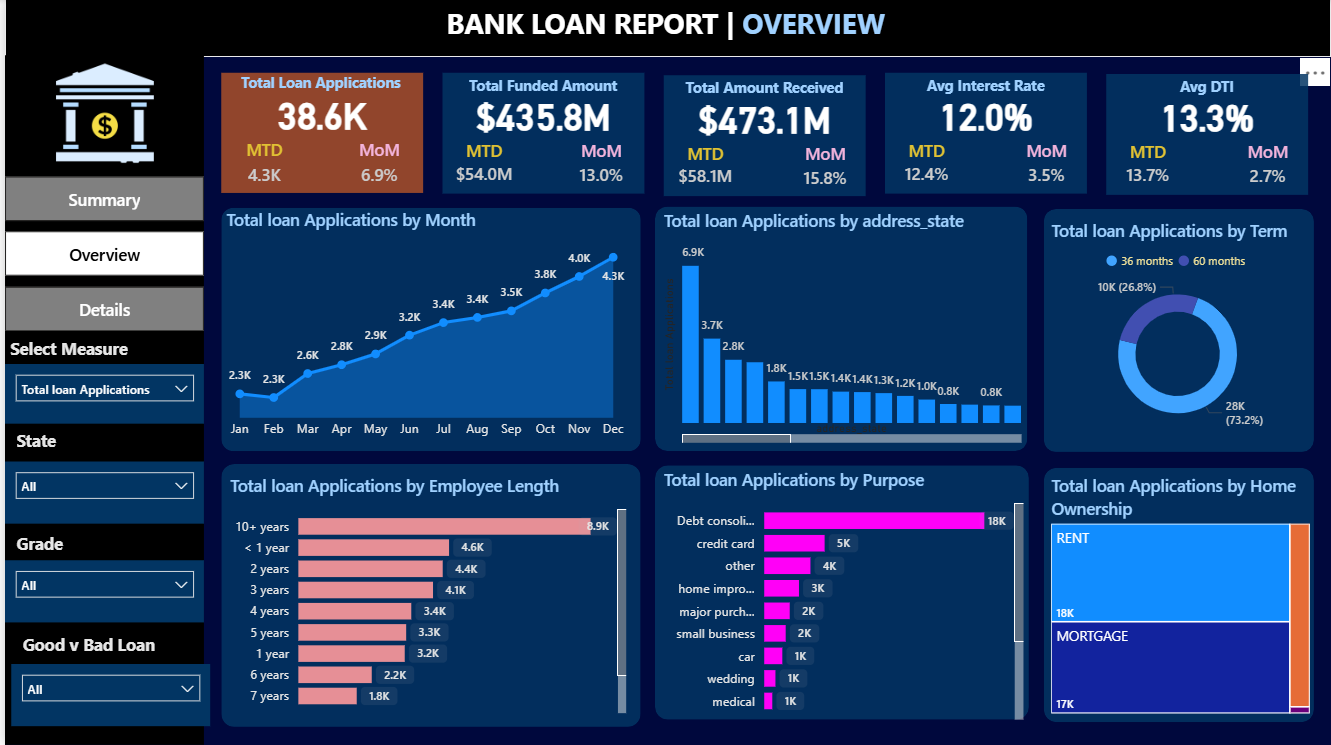

The page's visual inventory and layout, read from the dashboard file:
{"tool":"powerbi","page":{"name":"Overview","canvas":[1280,720],"ordinal":1},"visuals":[{"type":"shape","box":[0,0,1280.3,55],"z":0},{"type":"shape","box":[208.6,70.3,194.9,116.3],"z":0,"group":"g1"},{"type":"shape","box":[422.3,71.3,194.9,116.6],"z":0,"group":"g2"},{"type":"shape","box":[849.7,71.3,194.9,116.6],"z":0,"group":"g4"},{"type":"shape","box":[1063.5,72.7,194.9,116.6],"z":0,"group":"g5"},{"type":"shape","box":[636,74.1,194.9,116.6],"z":0,"group":"g3"},{"type":"card","fields":{"Values":["financial_loan.Total loan Applications"]},"box":[208.6,86.7,194.9,46.5],"z":1000,"group":"g1"},{"type":"card","fields":{"Values":["financial_loan.Total Funded Amount"]},"box":[422.3,87.8,194.9,46.7],"z":1000,"group":"g2"},{"type":"card","fields":{"Values":["financial_loan.Avg Interest Rate"]},"box":[849.7,87.8,194.9,46.7],"z":1000,"group":"g4"},{"type":"card","fields":{"Values":["financial_loan.Avg DTI"]},"box":[1063.5,89.2,194.9,46.7],"z":1000,"group":"g5"},{"type":"card","fields":{"Values":["financial_loan.Total Amount Received"]},"box":[636,90.6,194.9,46.7],"z":1000,"group":"g3"},{"type":"shape","box":[208.6,201.7,405,235],"z":1000},{"type":"shape","box":[0,54.9,192,665.5],"z":2000},{"type":"textbox","box":[220,65.9,170.2,38.3],"z":2000,"group":"g1"},{"type":"textbox","box":[434.6,68.6,170.2,38.4],"z":2000,"group":"g2"},{"type":"textbox","box":[862,68.6,170.2,38.4],"z":2000,"group":"g4"},{"type":"textbox","box":[1075.8,70,170.2,38.4],"z":2000,"group":"g5"},{"type":"textbox","box":[648.3,71.4,170.2,38.4],"z":2000,"group":"g3"},{"type":"textbox","box":[421.3,0,450.1,50.8],"z":3000},{"type":"card","title":"MTD","fields":{"Values":["financial_loan.MTD loan Applications"]},"box":[220.9,133.3,59,53.4],"z":3000,"group":"g1"},{"type":"card","title":"MTD","fields":{"Values":["financial_loan.MTD funded Amount"]},"box":[425.1,135.4,75.5,49.4],"z":3000,"group":"g2"},{"type":"card","title":"MTD","fields":{"Values":["financial_loan.MTD Avg Int Rate"]},"box":[852.5,135.4,75.5,49.4],"z":3000,"group":"g4"},{"type":"card","title":"MTD","fields":{"Values":["financial_loan.MTD Avg DTI"]},"box":[1066.3,136.8,75.5,49.4],"z":3000,"group":"g5"},{"type":"card","title":"MTD","fields":{"Values":["financial_loan.MTD Total Amount Received"]},"box":[638.8,138.2,75.5,49.4],"z":3000,"group":"g3"},{"type":"group","id":"g1","title":"Group 1","box":[208.6,65.9,194.9,120.8],"z":4000},{"type":"card","title":"MoM","fields":{"Values":["financial_loan.MOM Loan Application"]},"box":[332.1,133.3,59,53.4],"z":4000,"group":"g1"},{"type":"card","title":"MoM","fields":{"Values":["financial_loan.MOM Total Funded Amount"]},"box":[545.8,135.4,60.4,52.1],"z":4000,"group":"g2"},{"type":"card","title":"MoM","fields":{"Values":["financial_loan.MOM Avg int rate"]},"box":[973.5,135.4,63.1,52.1],"z":4000,"group":"g4"},{"type":"card","title":"MoM","fields":{"Values":["financial_loan.MOM Avg DTI"]},"box":[1187.3,136.8,63.1,52.1],"z":4000,"group":"g5"},{"type":"card","title":"MoM","fields":{"Values":["financial_loan.MOM Total Amout Received"]},"box":[759.8,138.2,63.1,52.1],"z":4000,"group":"g3"},{"type":"group","id":"g2","title":"Group 1","box":[422.3,68.6,194.9,119.4],"z":5000},{"type":"group","id":"g3","title":"Group 1","box":[636,71.4,194.9,119.4],"z":6000},{"type":"group","id":"g4","title":"Group 1","box":[849.7,68.6,194.9,119.4],"z":7000},{"type":"group","id":"g5","title":"Group 1","box":[1063.5,70,194.9,119.4],"z":8000},{"type":"actionButton","box":[0,0,100,40],"z":9000},{"type":"group","id":"g6","title":"Group 2","box":[5.5,606.5,192.1,96.1],"z":10000},{"type":"group","id":"g7","title":"Group 3","box":[0,509.1,192.1,93.3],"z":11000},{"type":"group","id":"g8","title":"Group 4","box":[0,410.3,192.1,96.1],"z":12000},{"type":"shape","box":[1003.1,203.1,260.7,234.6],"z":13000},{"type":"areaChart","fields":{"Y2":["financial_loan.Total loan Applications"],"Category":["Date Table.Month"]},"box":[208.6,201.7,396.6,231.9],"z":14000},{"type":"slicer","fields":{"Values":["Select Measure.Select Measure"]},"box":[0,352.7,192.1,57.6],"z":14000,"group":"g9"},{"type":"group","id":"g9","title":"Group 5","box":[0,321.1,192.1,89.2],"z":15000},{"type":"shape","box":[627.1,200.3,359.5,236],"z":16000},{"type":"donutChart","fields":{"Y":["financial_loan.Total loan Applications"],"Category":["financial_loan.term"]},"box":[1004.5,212.7,253.9,211.3],"z":17000},{"type":"shape","box":[208.6,448.7,404.8,253.9],"z":18000},{"type":"barChart","fields":{"Y":["financial_loan.Total loan Applications"],"Category":["financial_loan.emp_length"]},"box":[212.7,458.3,392.5,236],"z":19000},{"type":"shape","box":[627.1,450.1,360.9,245.6],"z":20000},{"type":"barChart","fields":{"Y":["financial_loan.Total loan Applications"],"Category":["financial_loan.purpose"]},"box":[631.2,452.8,356.8,248.4],"z":21000},{"type":"slicer","fields":{"Values":["financial_loan.address_state"]},"box":[0,446,192.1,60.4],"z":22000,"group":"g8"},{"type":"shape","box":[1003.1,452.8,260.7,245.6],"z":22000},{"type":"textbox","box":[0,321.1,131.7,37],"z":23000,"group":"g9"},{"type":"textbox","box":[5.5,410.3,86.4,37],"z":23000,"group":"g8"},{"type":"treemap","fields":{"Values":["financial_loan.Total loan Applications"],"Group":["financial_loan.home_ownership"]},"box":[1004.5,458.3,259.3,236],"z":23000},{"type":"pageNavigator","box":[0,171.5,192.1,149.6],"z":24000},{"type":"slicer","fields":{"Values":["financial_loan.grade"]},"box":[0,542,192.1,60.4],"z":24000,"group":"g7"},{"type":"clusteredColumnChart","fields":{"Y":["financial_loan.Total loan Applications"],"Category":["financial_loan.address_state"]},"box":[631.2,203.1,355.4,230.5],"z":25000},{"type":"slicer","fields":{"Values":["financial_loan.Good vs Bad Loan"]},"box":[5.5,641.7,192.1,60.4],"z":25000,"group":"g6"},{"type":"image","box":[0,50.8,192.1,118],"z":26000},{"type":"textbox","box":[5.5,509.1,86.4,37],"z":26000,"group":"g7"},{"type":"textbox","box":[11,606.5,144.1,37],"z":26001,"group":"g6"}]}

Visuals, with their boxes in screenshot pixels (x1, y1, x2, y2), scaled from the page's 1280x720 canvas onto the 1331x745 screenshot:
shape: [0,0,1330,57]
shape: [217,73,420,193]
shape: [439,74,642,194]
shape: [884,74,1086,194]
shape: [1106,75,1309,196]
shape: [661,77,864,197]
card - financial_loan.Total loan Applications: [217,90,420,138]
card - financial_loan.Total Funded Amount: [439,91,642,139]
card - financial_loan.Avg Interest Rate: [884,91,1086,139]
card - financial_loan.Avg DTI: [1106,92,1309,141]
card - financial_loan.Total Amount Received: [661,94,864,142]
shape: [217,209,638,452]
shape: [0,57,200,744]
textbox: [229,68,406,108]
textbox: [452,71,629,111]
textbox: [896,71,1073,111]
textbox: [1119,72,1296,112]
textbox: [674,74,851,114]
textbox: [438,0,906,53]
"MTD" card: [230,138,291,193]
"MTD" card: [442,140,521,191]
"MTD" card: [886,140,965,191]
"MTD" card: [1109,142,1187,193]
"MTD" card: [664,143,743,194]
"Group 1" group: [217,68,420,193]
"MoM" card: [345,138,407,193]
"MoM" card: [568,140,630,194]
"MoM" card: [1012,140,1078,194]
"MoM" card: [1235,142,1300,195]
"MoM" card: [790,143,856,197]
"Group 1" group: [439,71,642,195]
"Group 1" group: [661,74,864,197]
"Group 1" group: [884,71,1086,195]
"Group 1" group: [1106,72,1309,196]
actionButton: [0,0,104,41]
"Group 2" group: [6,628,205,727]
"Group 3" group: [0,527,200,623]
"Group 4" group: [0,425,200,524]
shape: [1043,210,1314,453]
areaChart - financial_loan.Total loan Applications x Date Table.Month: [217,209,629,449]
slicer - Select Measure.Select Measure: [0,365,200,425]
"Group 5" group: [0,332,200,425]
shape: [652,207,1026,451]
donutChart - financial_loan.Total loan Applications x financial_loan.term: [1045,220,1309,439]
shape: [217,464,638,727]
barChart - financial_loan.Total loan Applications x financial_loan.emp_length: [221,474,629,718]
shape: [652,466,1027,720]
barChart - financial_loan.Total loan Applications x financial_loan.purpose: [656,469,1027,726]
slicer - financial_loan.address_state: [0,461,200,524]
shape: [1043,469,1314,723]
textbox: [0,332,137,371]
textbox: [6,425,96,463]
treemap - financial_loan.Total loan Applications x financial_loan.home_ownership: [1045,474,1314,718]
pageNavigator: [0,177,200,332]
slicer - financial_loan.grade: [0,561,200,623]
clusteredColumnChart - financial_loan.Total loan Applications x financial_loan.address_state: [656,210,1026,449]
slicer - financial_loan.Good vs Bad Loan: [6,664,205,726]
image: [0,53,200,175]
textbox: [6,527,96,565]
textbox: [11,628,161,666]
